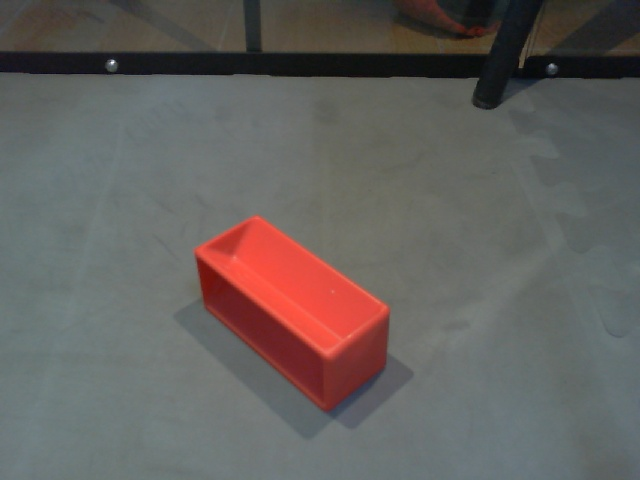RedSample: (191, 212, 394, 416)
